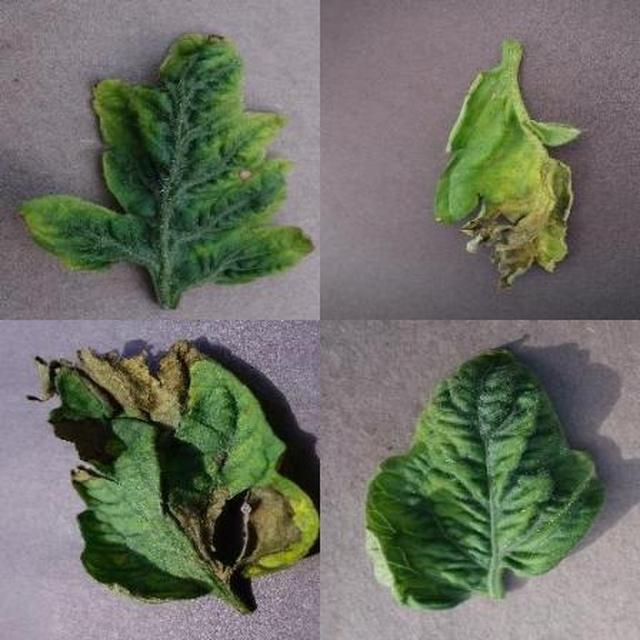Yellow Leaf Curl Virus: (215, 233, 640, 640)
